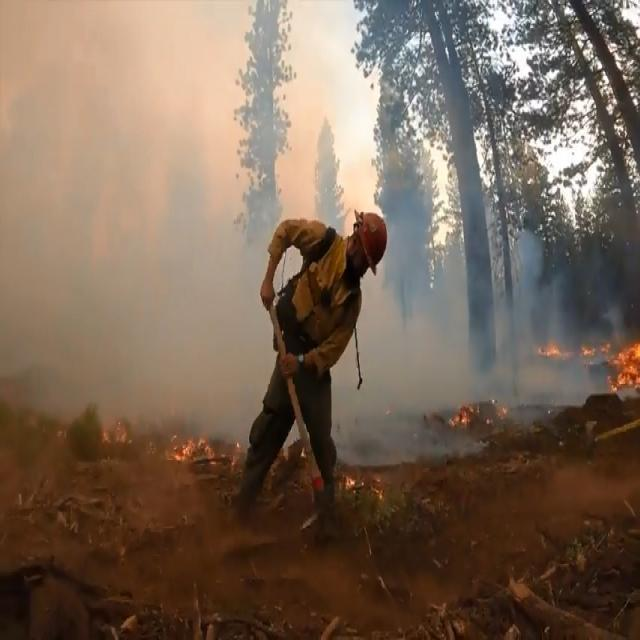Fire: (536, 322, 640, 412), (100, 412, 236, 470), (442, 402, 480, 432)
